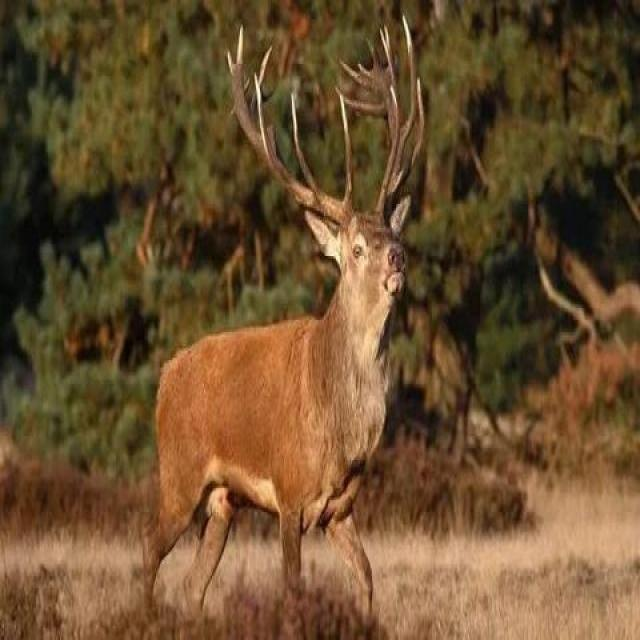deer: (113, 56, 400, 523)
